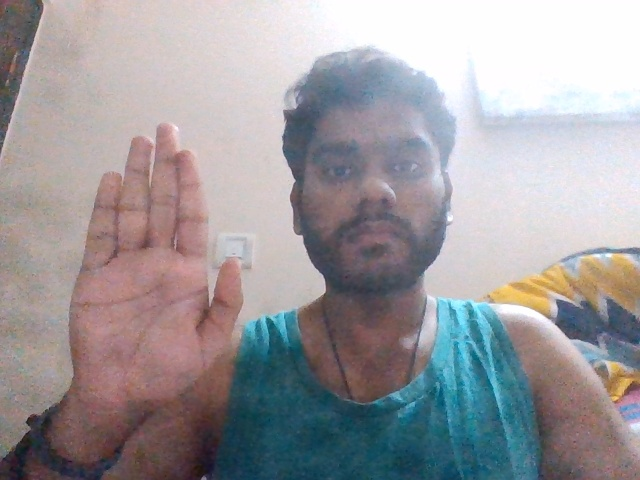hello: (62, 115, 251, 413)
